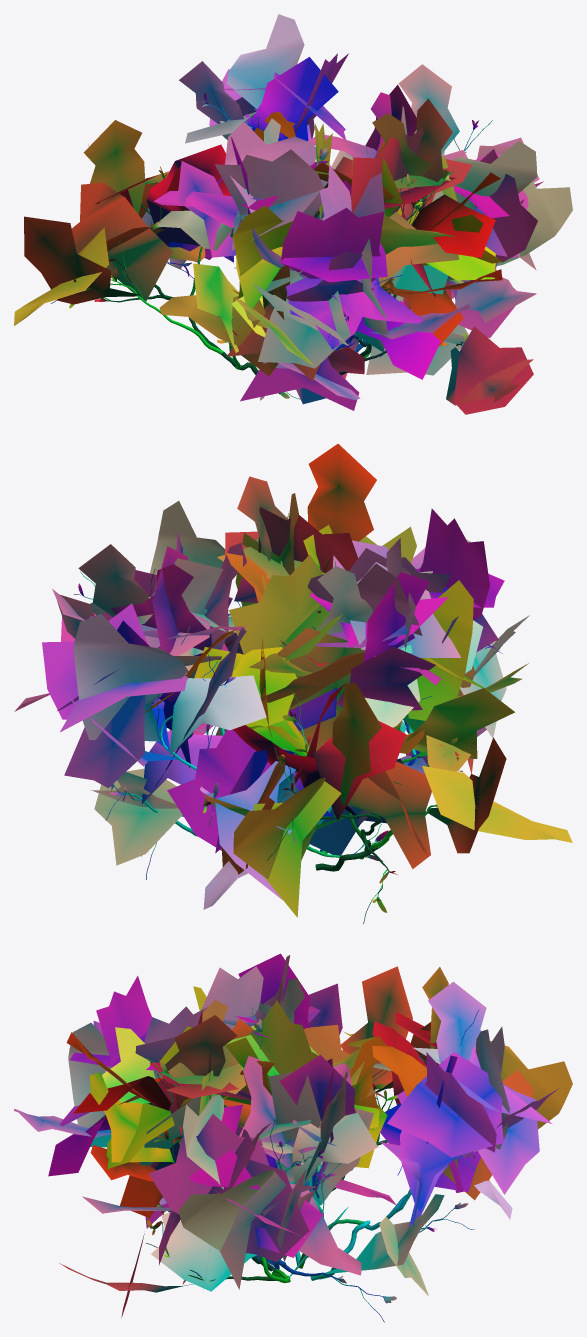
The model's file is Downy_Willow_wknlfiuqx_Mid_wknlfiuqx_VarD_LOD2.fbx.
The picture shows the model from 3 angles, top to bottom: view 1: azimuth 30°, elevation 25°; view 2: azimuth 150°, elevation 25°; view 3: azimuth 270°, elevation 25°; orthographic projection. The views are drawn at different scales.
Visible parts, largest first — view 1: _eivn_VarD_LOD3; view 2: _eivn_VarD_LOD3; view 3: _eivn_VarD_LOD3.
Part boxes in pixels (left/top/right/bottom): _eivn_VarD_LOD3: left=14, top=14, right=572, bottom=414; _eivn_VarD_LOD3: left=14, top=444, right=572, bottom=923; _eivn_VarD_LOD3: left=14, top=953, right=572, bottom=1322.
Size of the model in its own units: 303 by 175 by 292.
